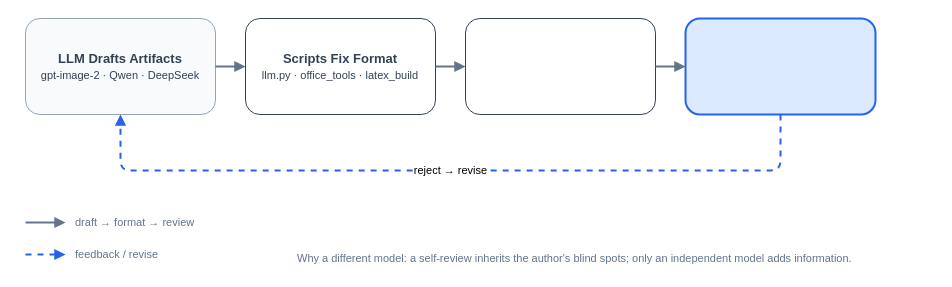
The diagram is 952 pixels wide and 287 high, and some of its shapes have lost their labels. The centre of each missing label's shape, as x and y in pixels:
Cross-Model Verification vision · review · consistency a DIFFERENT model judges: point (780, 66)
Native Self-Review same model reads the render: point (560, 66)
